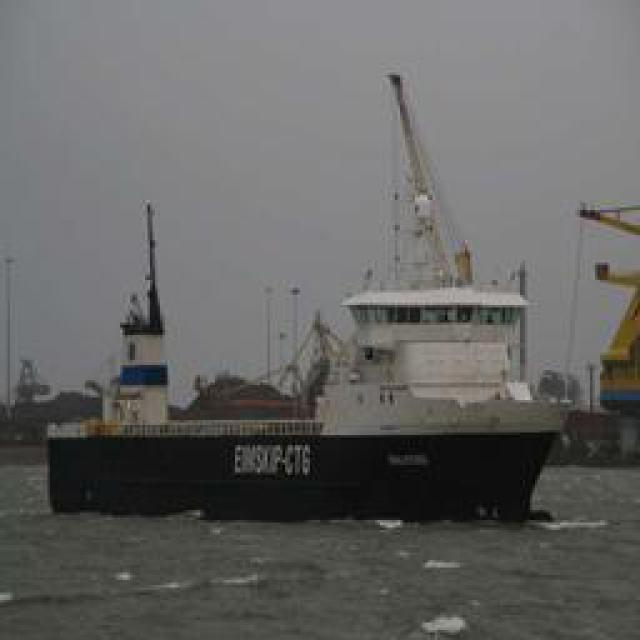Ship: (39, 82, 567, 532)
